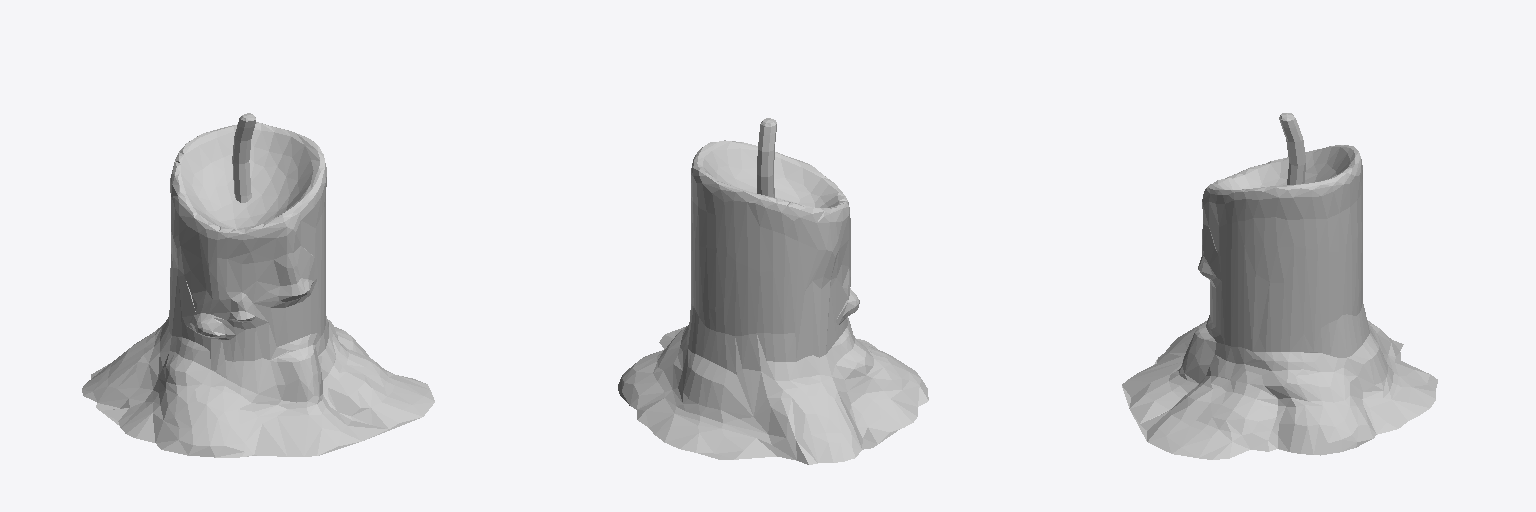
File: Candle1.obj
3 views of the same model, side by side, from view 1: azimuth 30°, elevation 25°; view 2: azimuth 150°, elevation 25°; view 3: azimuth 270°, elevation 25° (orthographic).
Visible parts, largest first — view 1: Cube.019; view 2: Cube.019; view 3: Cube.019.
Part boxes in pixels (x1,y1,x2,y2): Cube.019: (82,113,434,457); Cube.019: (618,118,928,464); Cube.019: (1122,113,1437,459).
Bounding box in the file's own units: 0.2694 × 0.2608 × 0.2683.